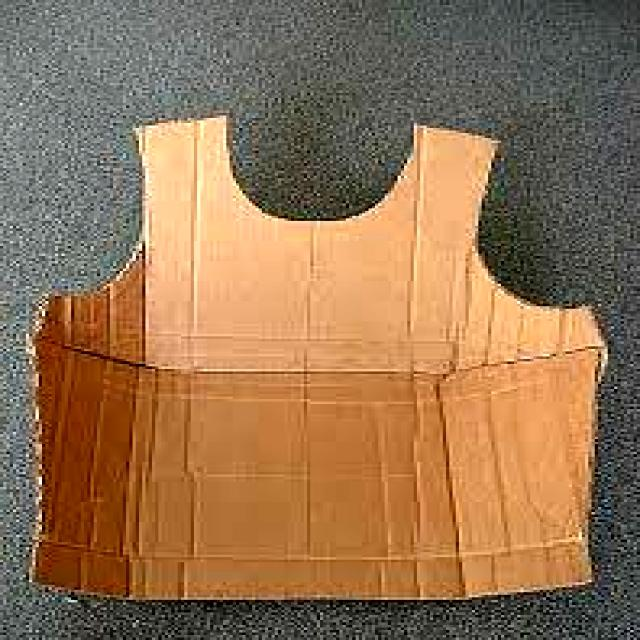Cardboard: (27, 112, 607, 609)
